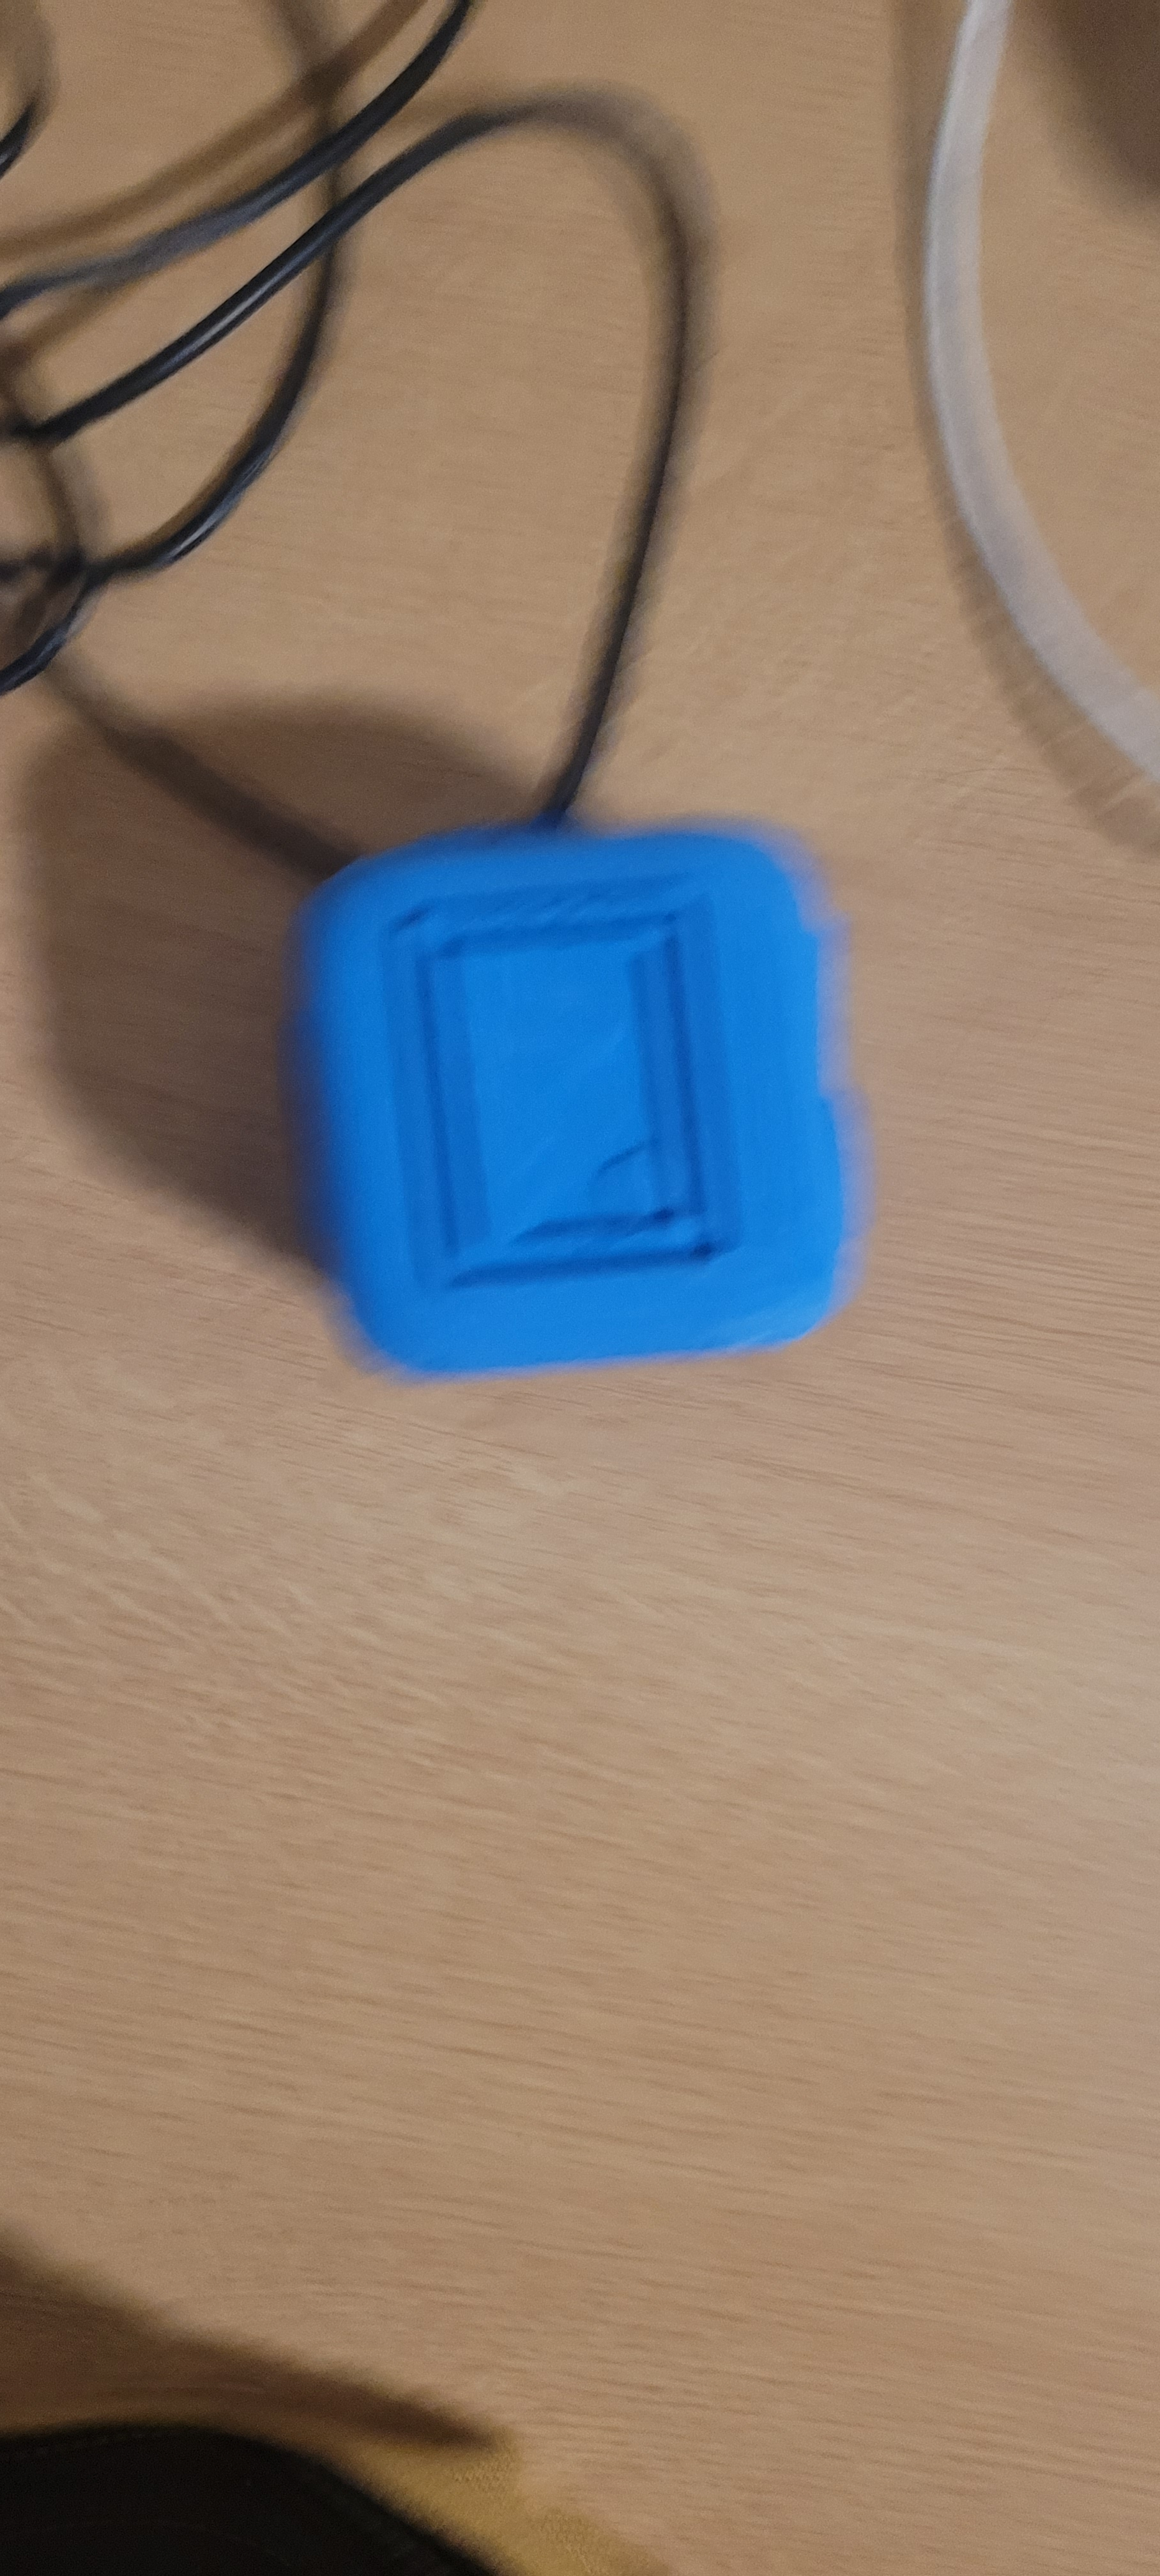Story: (288, 854, 797, 1311)
